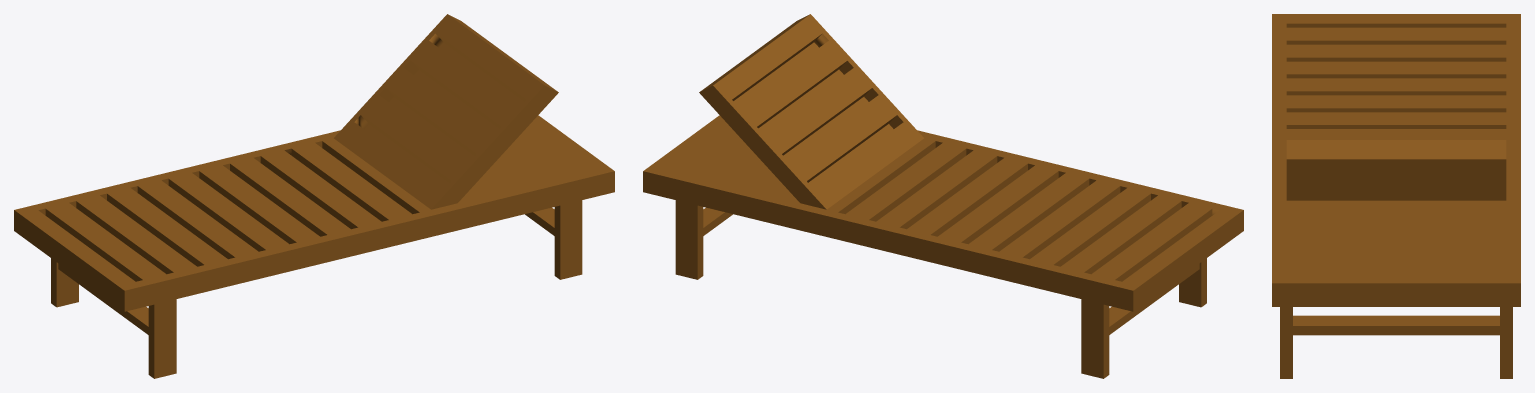
File: lezaljka1.fbx
The picture shows the model from 3 angles, left to right: view 1: azimuth 30°, elevation 25°; view 2: azimuth 150°, elevation 25°; view 3: azimuth 270°, elevation 25°; orthographic projection. The views are drawn at different scales.
Parts seen in each view (by area): view 1: StolicaPlaza; view 2: StolicaPlaza; view 3: StolicaPlaza.
Boxes of the visible parts, left/top/right/bottom form: StolicaPlaza: left=14, top=14, right=614, bottom=378; StolicaPlaza: left=643, top=14, right=1243, bottom=378; StolicaPlaza: left=1272, top=14, right=1520, bottom=378.
Size of the model in its own units: 258 by 98.37 by 101.
